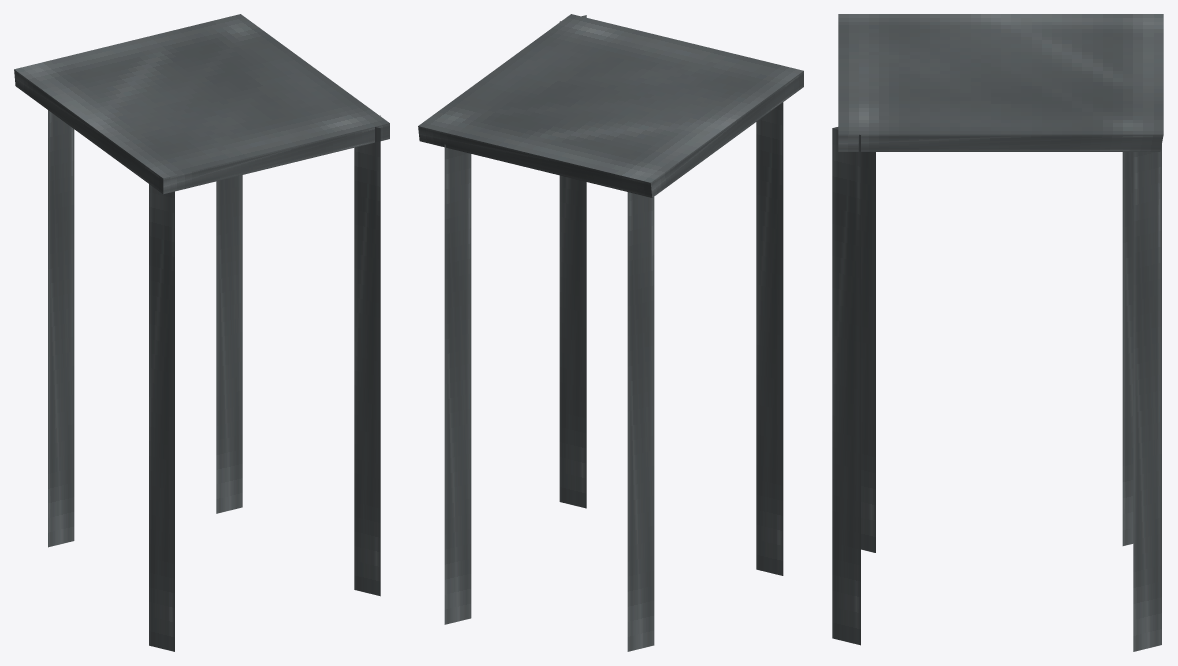
The model's file is guardpost.fbx.
3 renders of one model, left to right at view 1: azimuth 30°, elevation 25°; view 2: azimuth 150°, elevation 25°; view 3: azimuth 270°, elevation 25°, orthographic. The views are drawn at different scales.
Parts seen in each view (by area): view 1: coffeetable; view 2: coffeetable; view 3: coffeetable.
Part boxes in pixels (x1,y1,x2,y2): coffeetable: [14, 14, 389, 651]; coffeetable: [418, 14, 803, 651]; coffeetable: [832, 14, 1163, 651].
Bounding box in the file's own units: 45.91 × 92.58 × 53.09.
